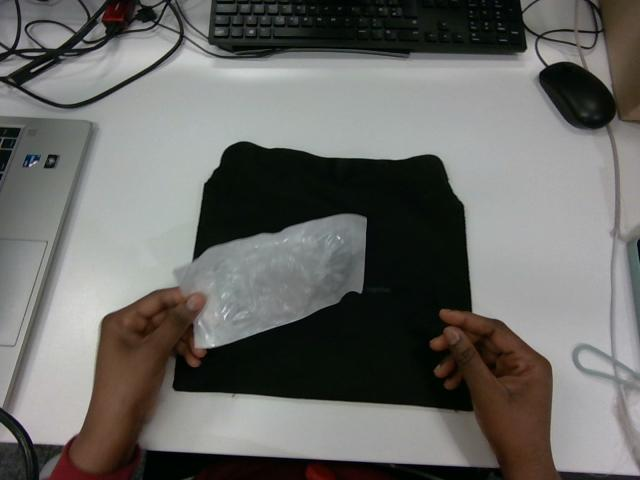gallipot: (175, 214, 366, 347)
